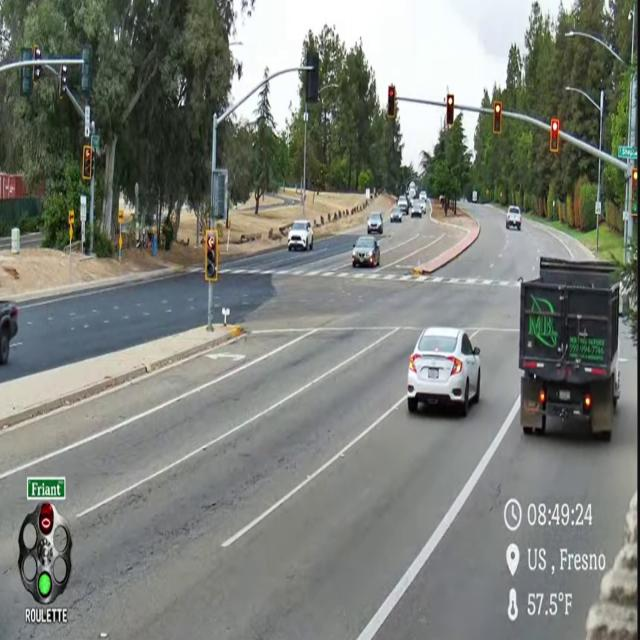car: (407, 328, 480, 415), (0, 301, 18, 364), (352, 236, 380, 267), (288, 220, 313, 250), (506, 206, 521, 230), (367, 213, 383, 234), (397, 196, 409, 214), (410, 200, 422, 217), (390, 207, 402, 223), (419, 200, 426, 213), (419, 191, 427, 202)
traffic signal: (204, 229, 218, 282), (306, 51, 319, 103), (81, 45, 91, 95), (39, 503, 54, 535), (20, 66, 32, 97), (82, 145, 92, 181), (59, 64, 68, 99), (387, 85, 396, 119), (550, 119, 559, 152), (493, 102, 502, 135), (446, 93, 454, 127), (32, 65, 41, 82), (632, 168, 637, 189)
truck: (519, 257, 620, 441), (472, 191, 477, 203)
